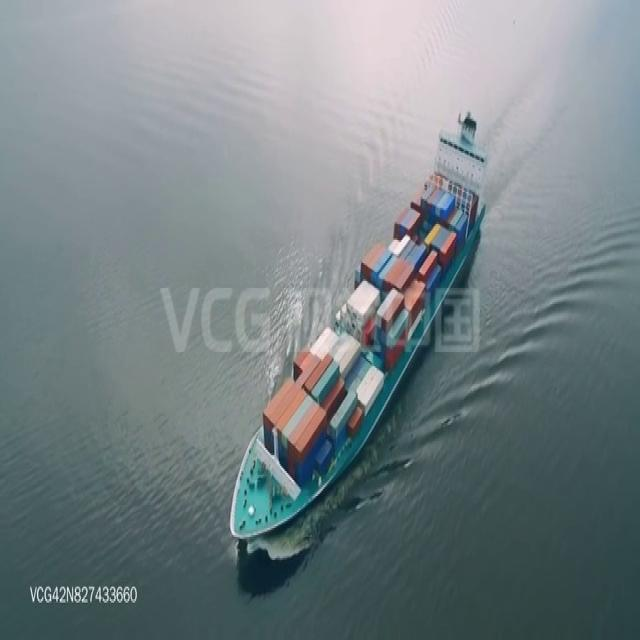cargoship: (225, 106, 488, 544)
